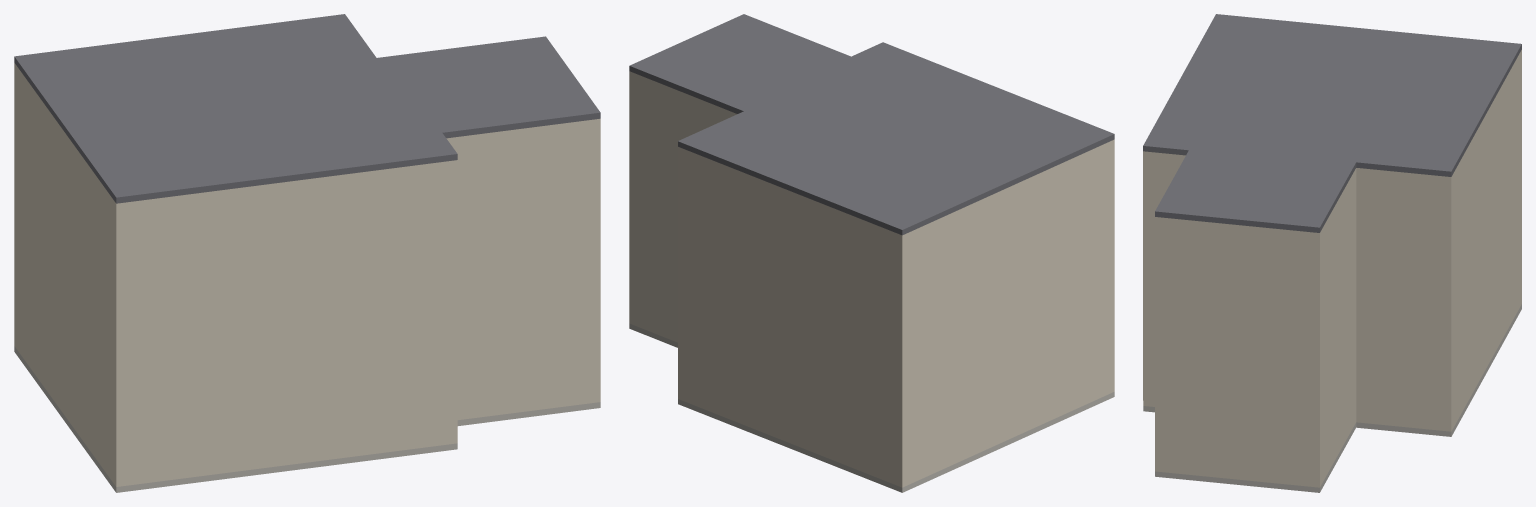
File: robeson.glb
The picture shows the model from 3 angles, left to right: view 1: azimuth 30°, elevation 25°; view 2: azimuth 150°, elevation 25°; view 3: azimuth 270°, elevation 25°; orthographic projection. The views are drawn at different scales.
Parts seen in each view (by area): view 1: robeson_walls, robeson_roof, robeson_plinth; view 2: robeson_walls, robeson_roof, robeson_plinth; view 3: robeson_walls, robeson_roof, robeson_plinth.
Part boxes in pixels (x1=…): robeson_walls: x1=14, y1=63, x2=600, y2=486; robeson_roof: x1=14, y1=14, x2=600, y2=203; robeson_plinth: x1=14, y1=346, x2=600, y2=492; robeson_walls: x1=629, y1=71, x2=1114, y2=487; robeson_roof: x1=629, y1=14, x2=1114, y2=235; robeson_plinth: x1=629, y1=323, x2=1114, y2=492; robeson_walls: x1=1143, y1=50, x2=1521, y2=487; robeson_roof: x1=1143, y1=14, x2=1521, y2=232; robeson_plinth: x1=1143, y1=304, x2=1521, y2=492.
Bounding box in the file's own units: 25.61 × 14.83 × 19.19.
